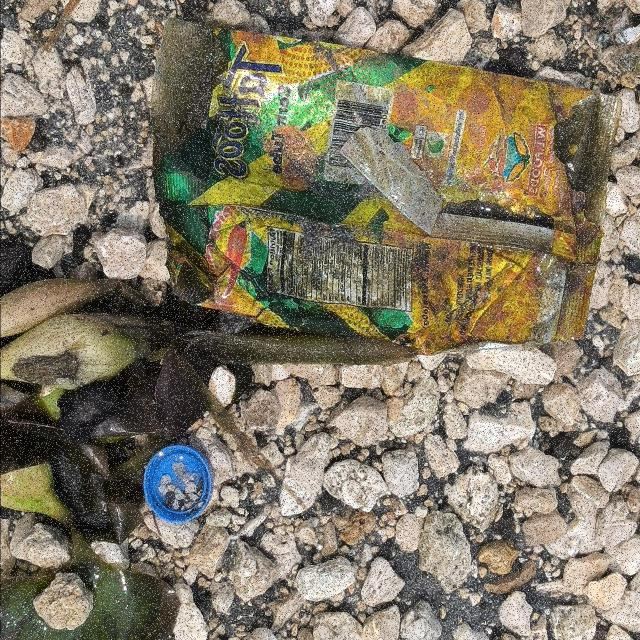plastic_waste: (148, 15, 625, 359), (143, 445, 215, 525)
